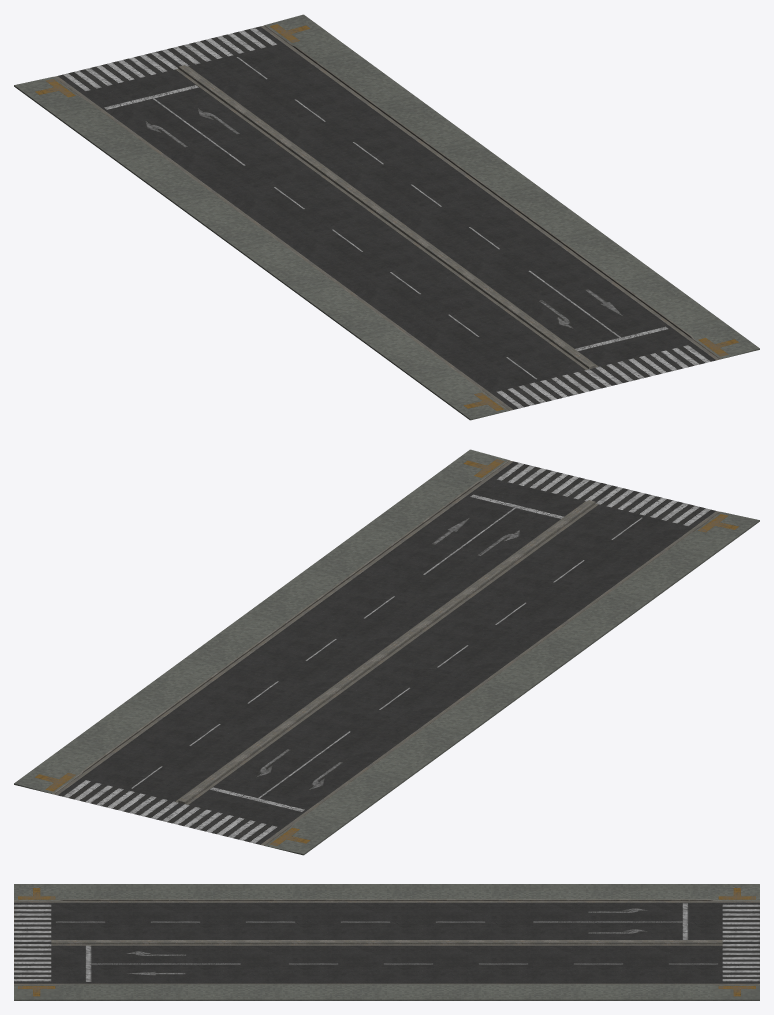
Rendered from jctlowRoad22mA_e.fbx.
The picture shows the model from 3 angles, top to bottom: view 1: azimuth 30°, elevation 25°; view 2: azimuth 150°, elevation 25°; view 3: azimuth 270°, elevation 25°; orthographic projection. The views are drawn at different scales.
Visible parts, largest first — view 1: jctlowRoad22mA_e; view 2: jctlowRoad22mA_e; view 3: jctlowRoad22mA_e.
Boxes of the visible parts, x1,y1,x2,y2 form: jctlowRoad22mA_e: (14, 14, 759, 420); jctlowRoad22mA_e: (14, 449, 759, 855); jctlowRoad22mA_e: (14, 884, 759, 1000).
Bounding box in the file's own units: 2200 × 15 × 6000.
Materials: 3 (3 with a texture image).
